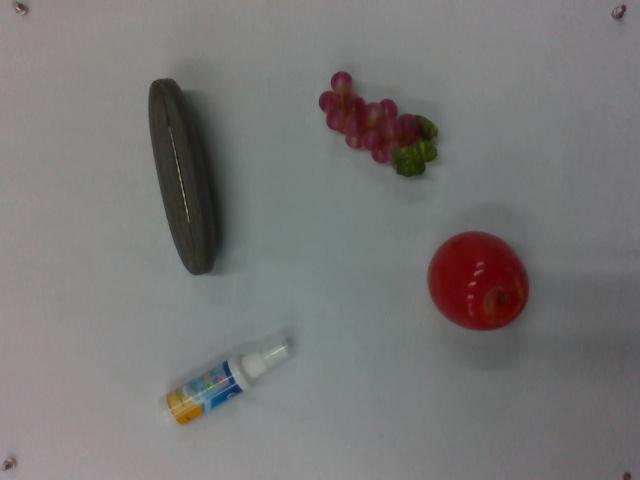apple: (427, 227, 531, 335)
detergent: (157, 335, 293, 434)
glassescase: (144, 77, 223, 277)
grape: (314, 69, 437, 179)
